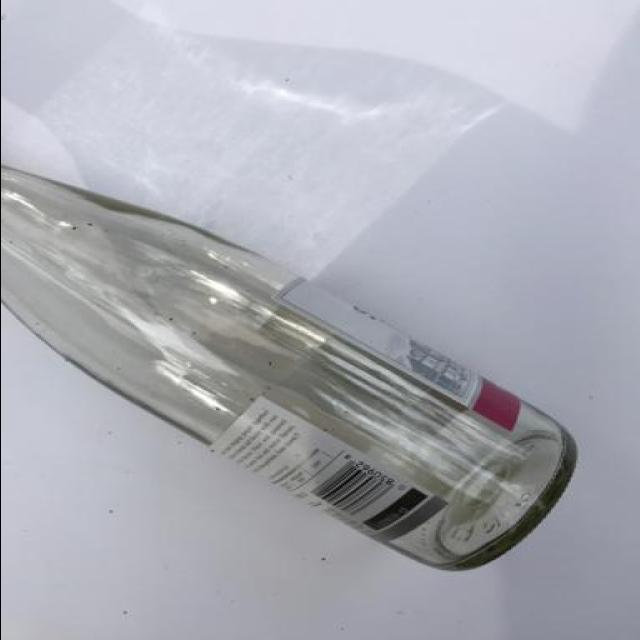Glass Bottle: (0, 156, 579, 572)
